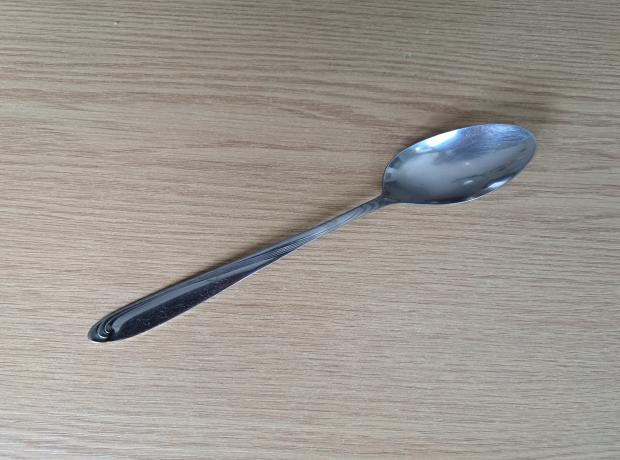metal: (84, 121, 540, 346)
